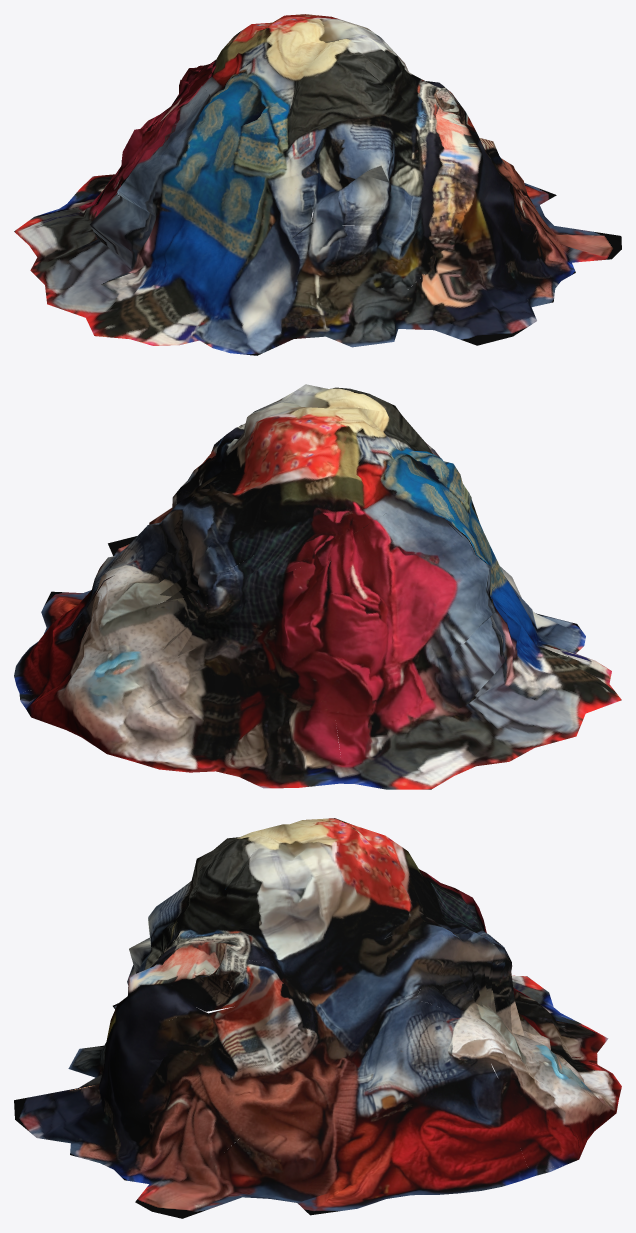
Rendered from clothes.gltf.
3 views of the same model, one above another, from view 1: azimuth 30°, elevation 25°; view 2: azimuth 150°, elevation 25°; view 3: azimuth 270°, elevation 25° (orthographic). The views are drawn at different scales.
Visible parts, largest first — view 1: Object_2.001; view 2: Object_2.001; view 3: Object_2.001.
Part boxes in pixels (bbox=[...]): Object_2.001: bbox=[14, 14, 621, 355]; Object_2.001: bbox=[14, 384, 621, 789]; Object_2.001: bbox=[14, 818, 621, 1218].
Bounding box in the file's own units: 1.06 × 0.4808 × 1.01.
1 material, 1 textured.
